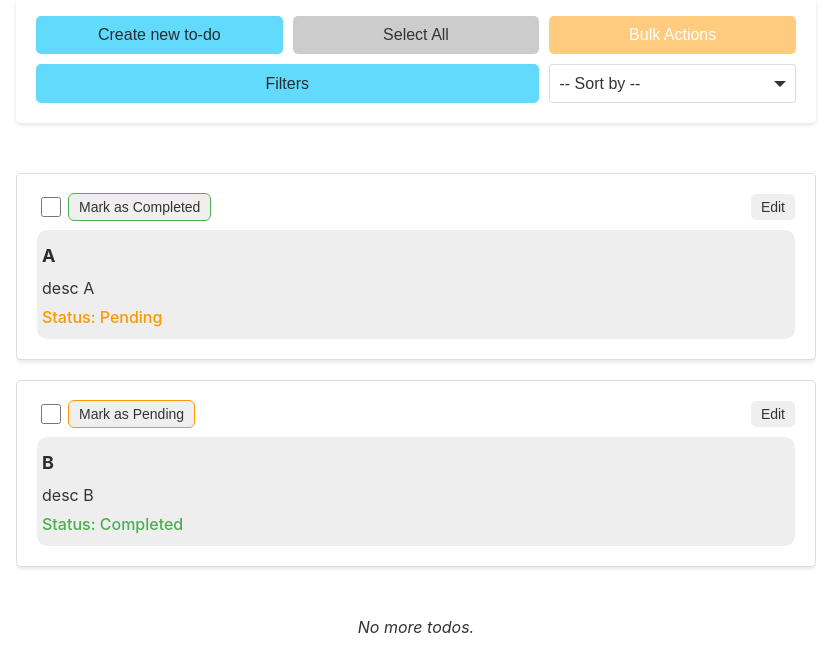
it: TodoList › selects all todos when Select All clicked
Expected: the heading "A" is shown, [42,245,56,266]
Click the button "Select All" at (416, 35), box [293,16,539,54]
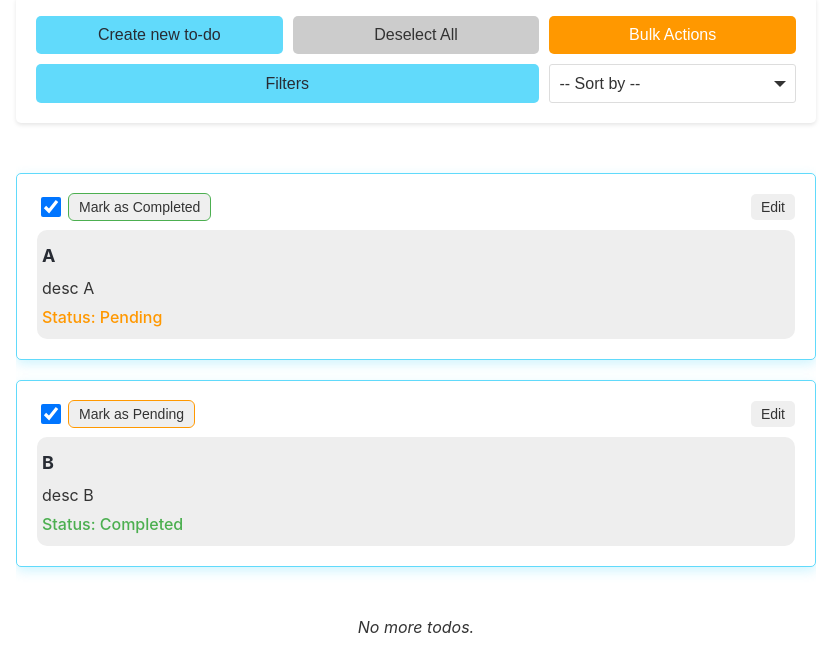
Result: the button "Deselect All" is shown at [293,16,539,54]
